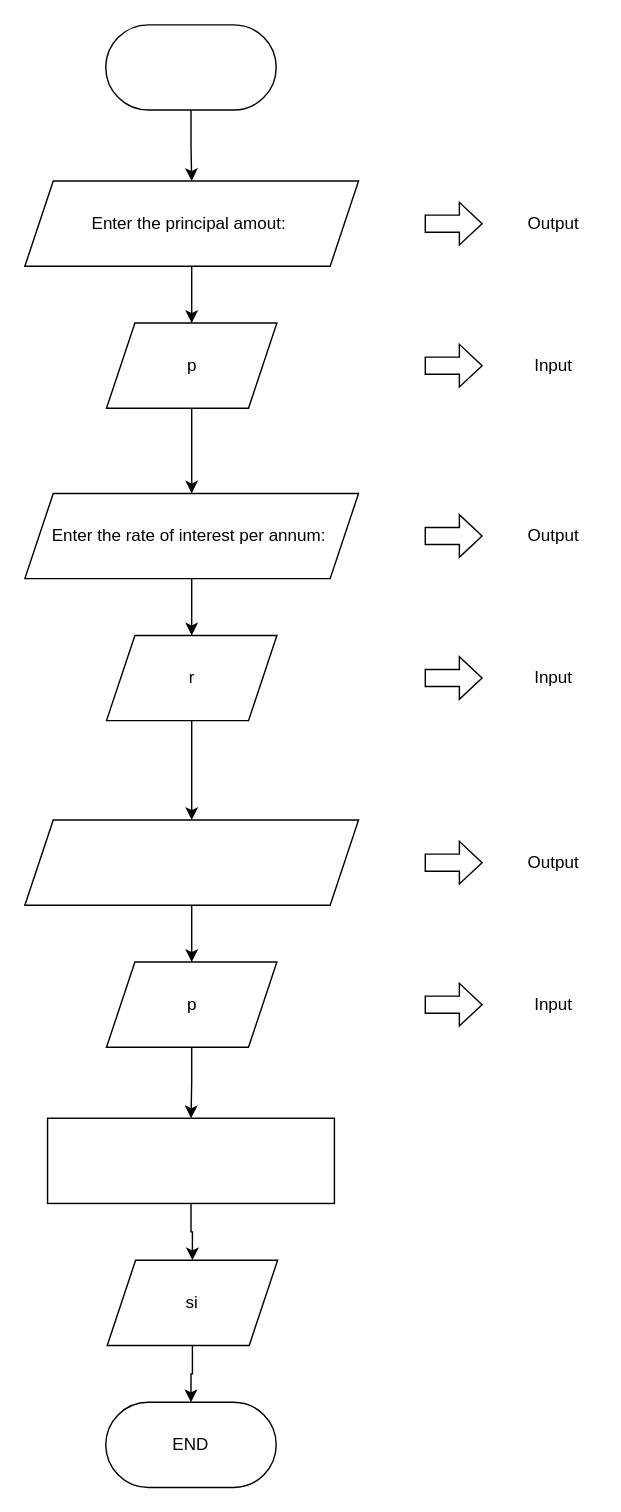
Some shapes in this 621 by 1512 pixel diagram are drawn without their labels. Here are the shapes that lost their labels. From the top down, the centre of each, then its label:
the point at 190,66: Main
the point at 191,862: Enter the time in years:
the point at 190,1160: si = (p * r * t) / 100
